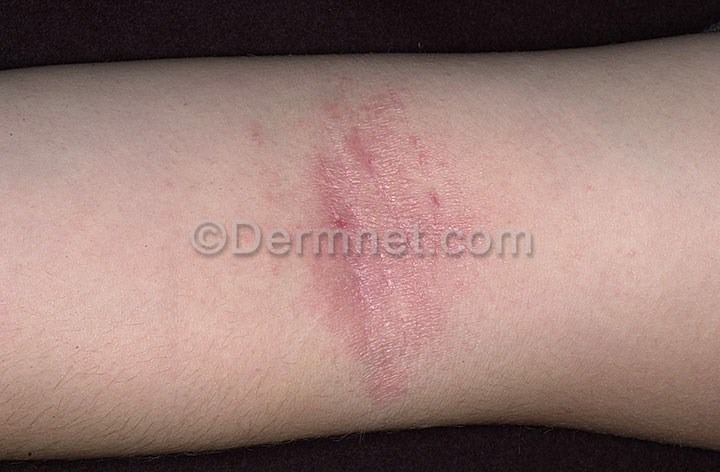Eczema: (270, 65, 497, 406)
